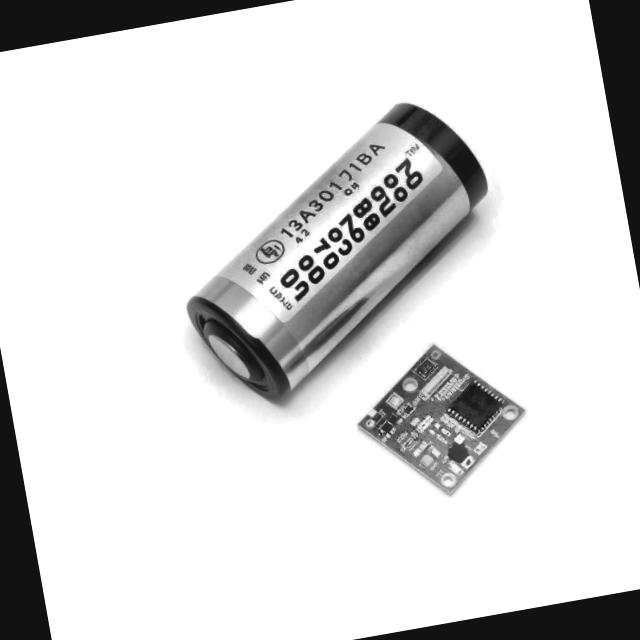Battery: (179, 91, 495, 406)
PCB: (356, 346, 522, 495)
